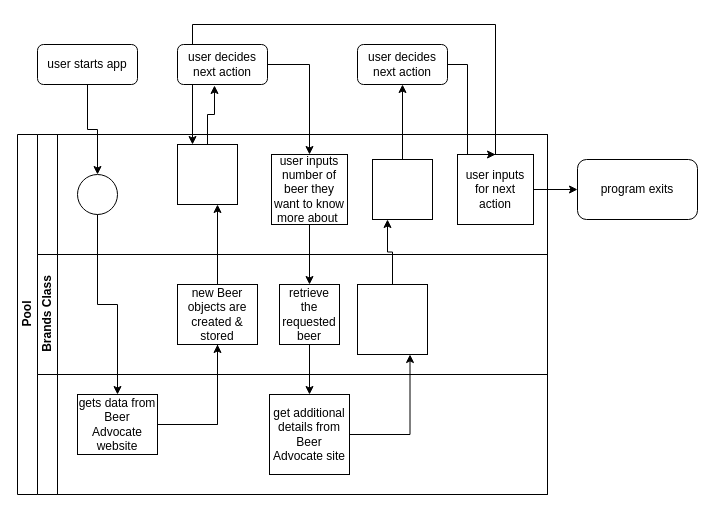
The diagram is 715 pixels wide and 512 high, and some of its shapes have lost their labels. The shapes that lost their labels are listed below. From the top down, each one's box as (x1, y1, x2, y2) in pixels, then its label:
(76, 174, 118, 214): Prints Greeting
(176, 144, 238, 204): print numbered list of beers
(36, 134, 548, 254): CLI Class
(372, 158, 432, 220): prints additional details
(356, 284, 428, 354): Additional attributes are stored
(36, 374, 548, 494): Scraper Class
